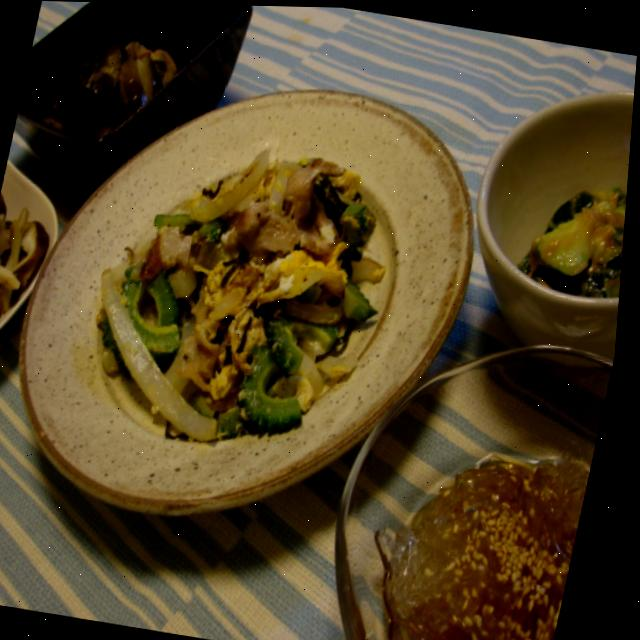熟制海鲜: (0, 73, 483, 523)
